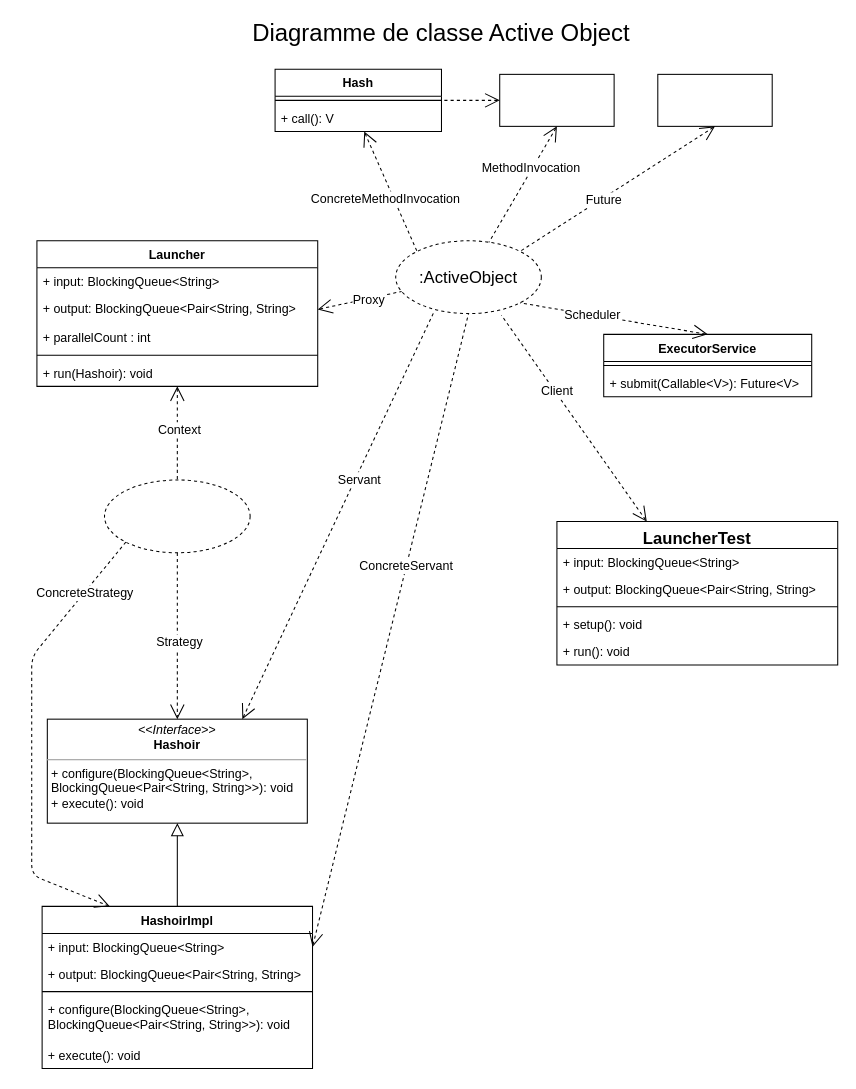
This 856x1089 diagram has some shape labels left out. The centre of each missing label's shape, as x and y in pixels:
":Strategy" goes at (176,516).
"«interface» Callable<V>" goes at (556,99).
"«interface» Future<V>" goes at (714,99).
